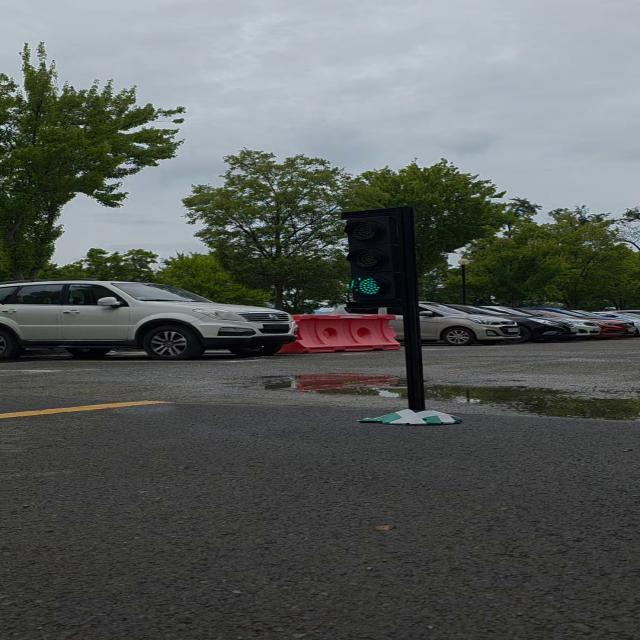green: (335, 205, 415, 308)
